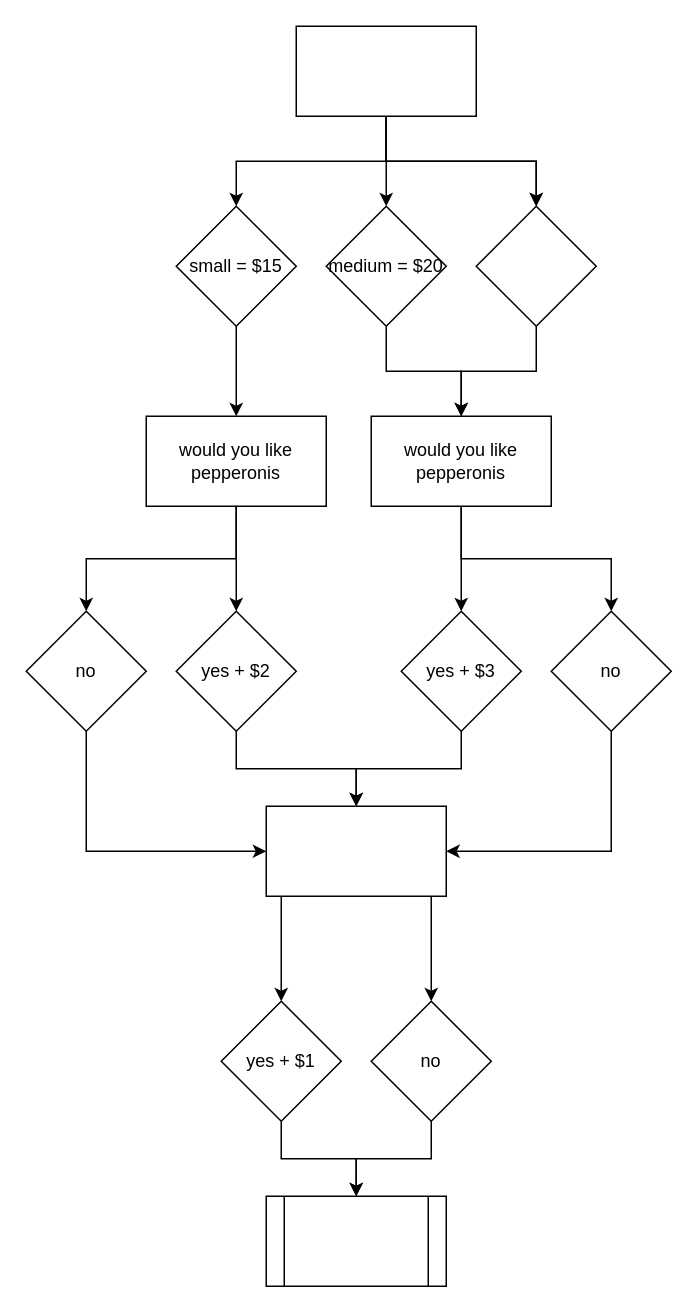
Image size: 698x1313. Some labels were removed from this diagram. Here are the shapes that lost their labels. From the top down, the centre of each, then its label:
[385,70]: pizza size
[535,265]: large = $25
[355,850]: would you like extra cheese
[355,1240]: order total
